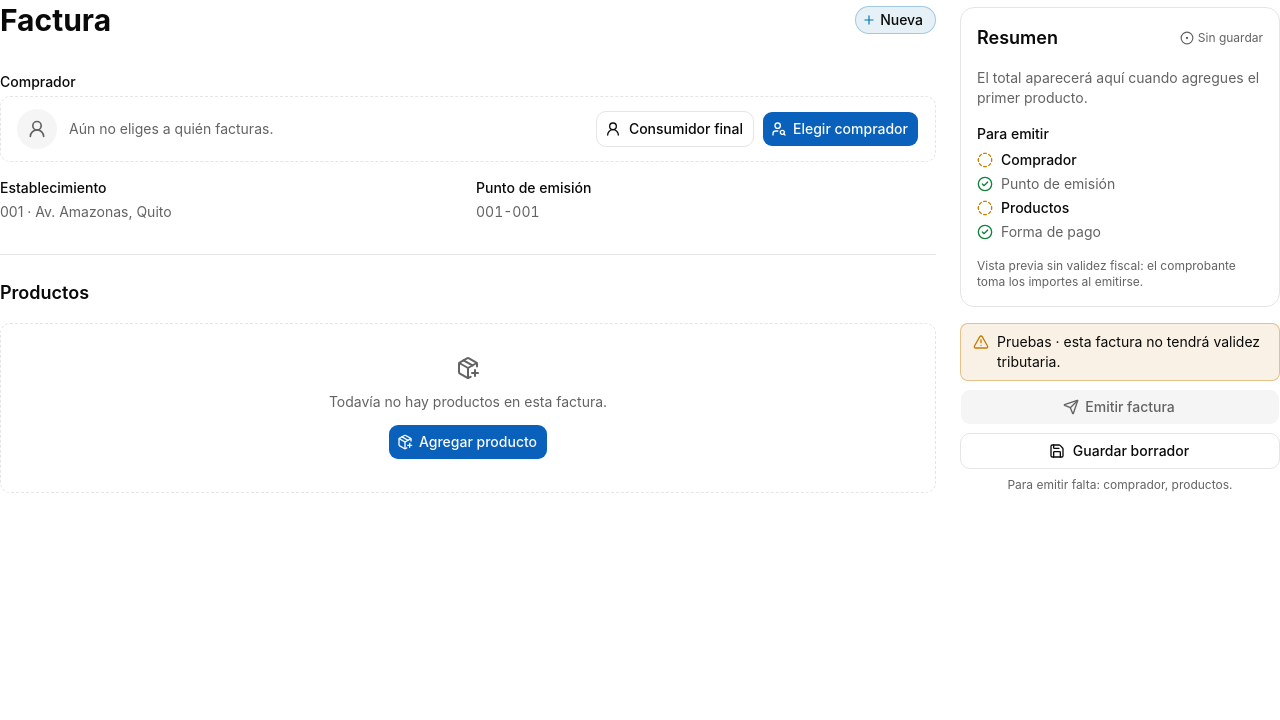
Test: composición del editor › sin productos invita a agregarlos, y agregar uno deja el foco en su cantidad
Expected: the text "Todavía no hay productos en esta factura." is shown, [329, 392, 607, 412]
Expected: the element "Formas de pago" is not shown
Click the button "Agregar producto".
click(468, 442)  # box [388, 424, 548, 460]
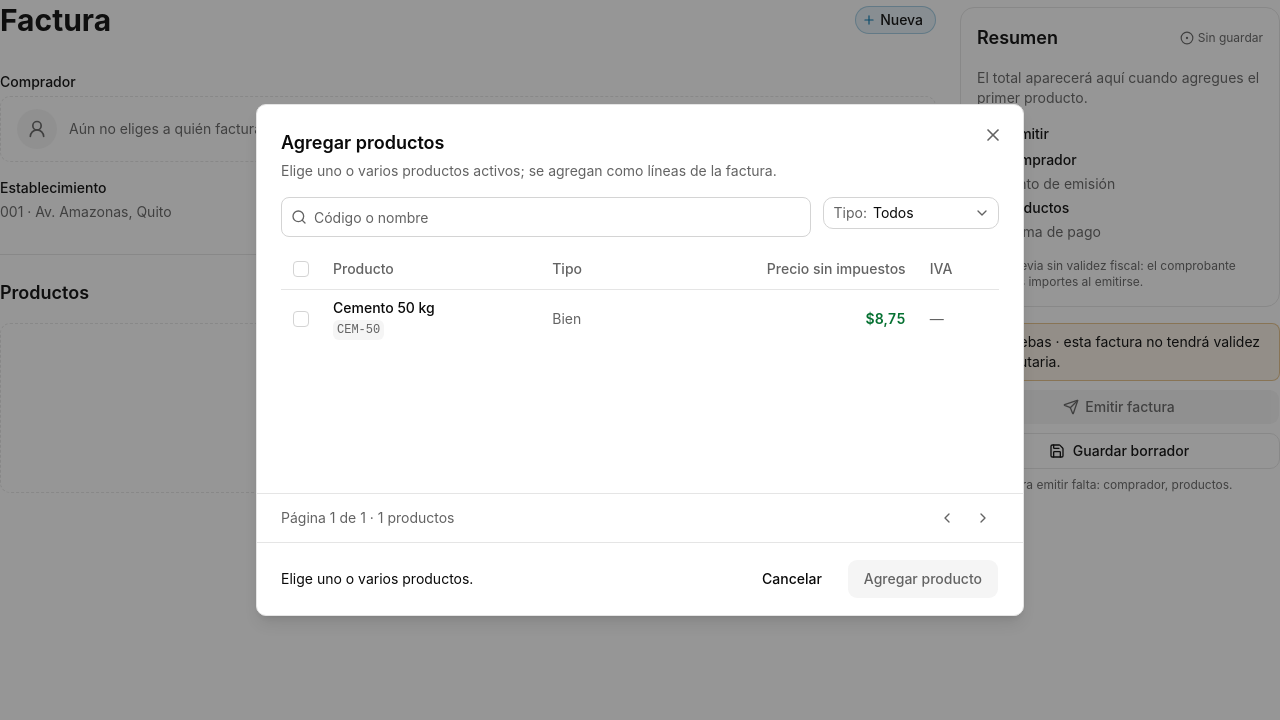
Click the checkbox named "Elegir Cemento 50 kg".
click(301, 318)  # box [293, 310, 309, 326]
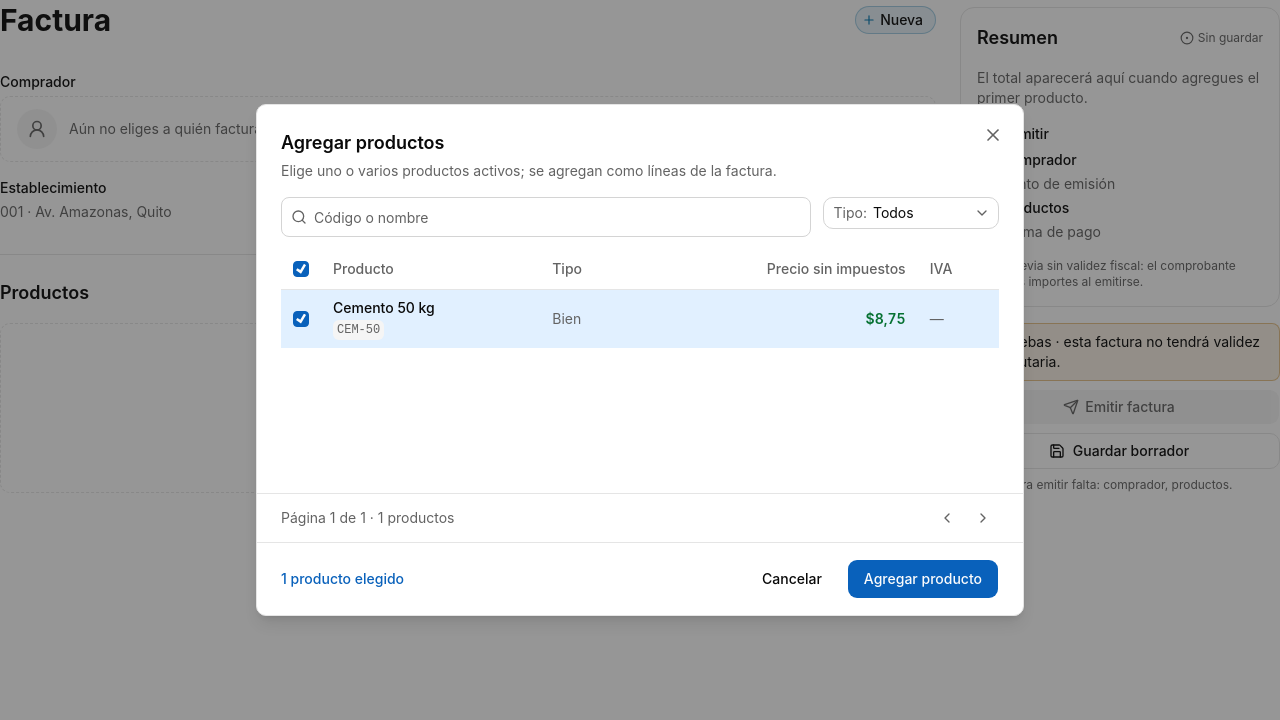
Click the button "Agregar producto".
click(923, 579)  # box [847, 559, 999, 599]
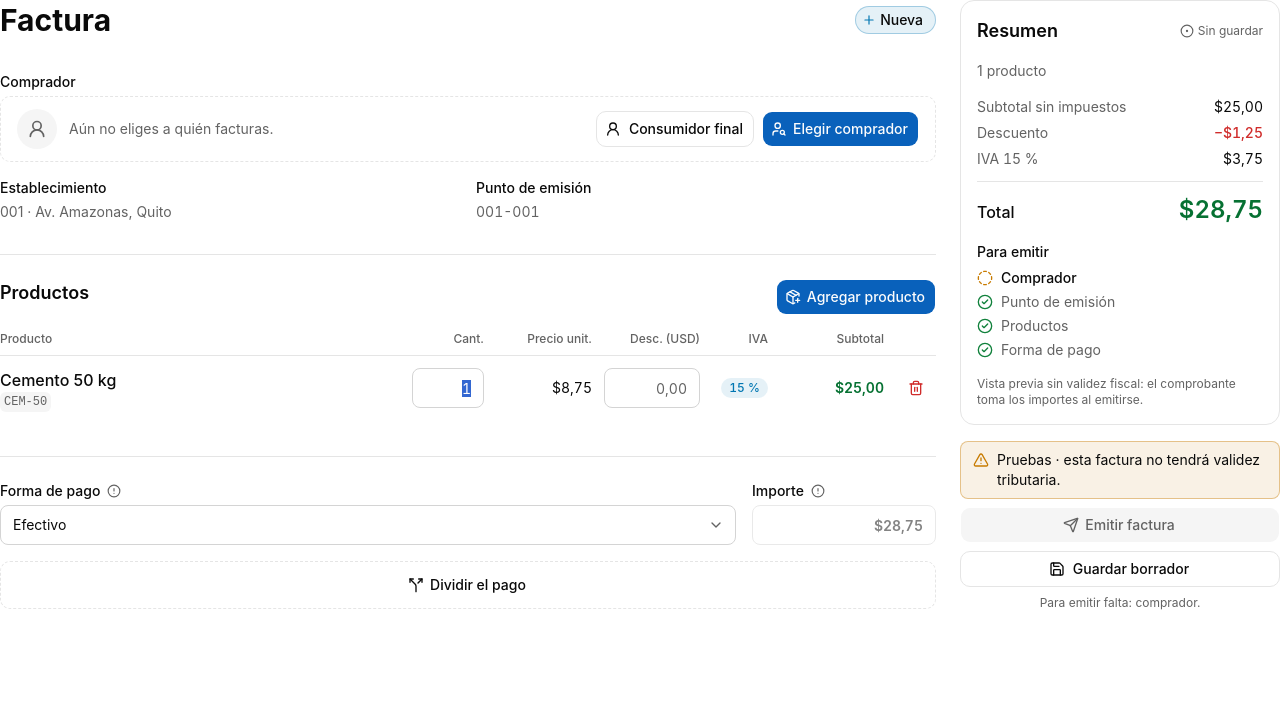
Expected: the element named "Formas de pago" is shown, [0, 456, 936, 609]
